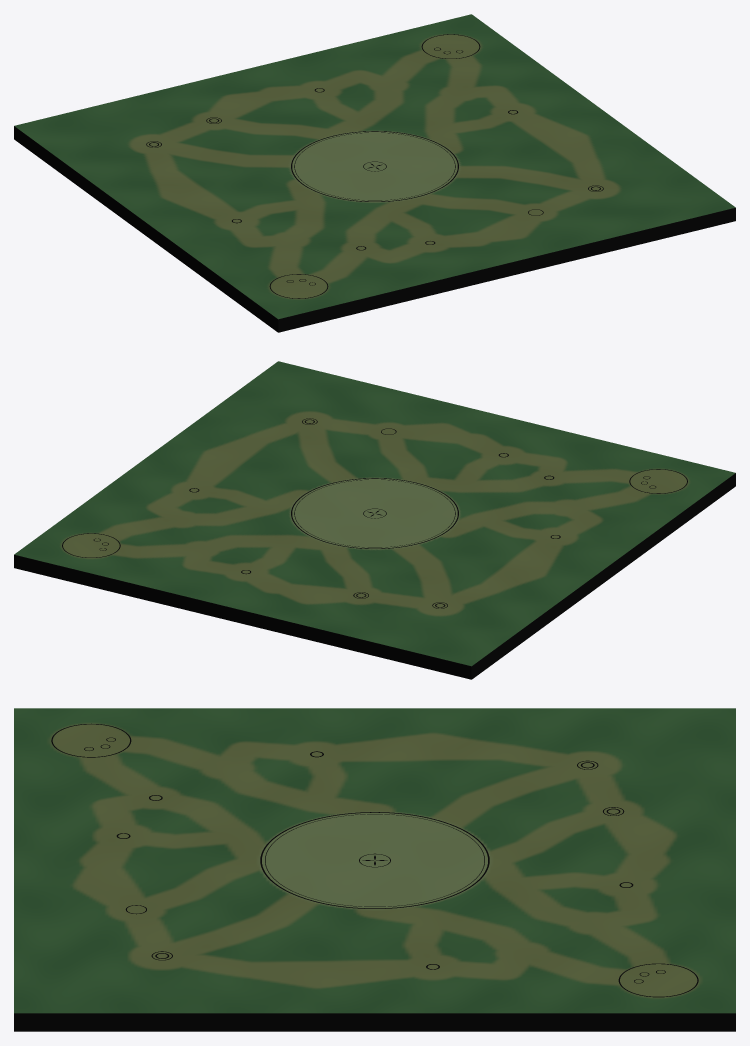
Rendered from SM_R01_Ground_and_Trails.fbx.
The picture shows the model from 3 angles, top to bottom: view 1: azimuth 30°, elevation 25°; view 2: azimuth 150°, elevation 25°; view 3: azimuth 270°, elevation 25°; orthographic projection. The views are drawn at different scales.
Parts seen in each view (by area): view 1: SM_R01_Ground_and_Trails; view 2: SM_R01_Ground_and_Trails; view 3: SM_R01_Ground_and_Trails.
Part boxes in pixels (x1,y1,x2,y2): SM_R01_Ground_and_Trails: [14, 14, 735, 332]; SM_R01_Ground_and_Trails: [14, 361, 735, 679]; SM_R01_Ground_and_Trails: [14, 708, 735, 1031].
Size of the model in its own units: 112 by 112 by 3.2.
